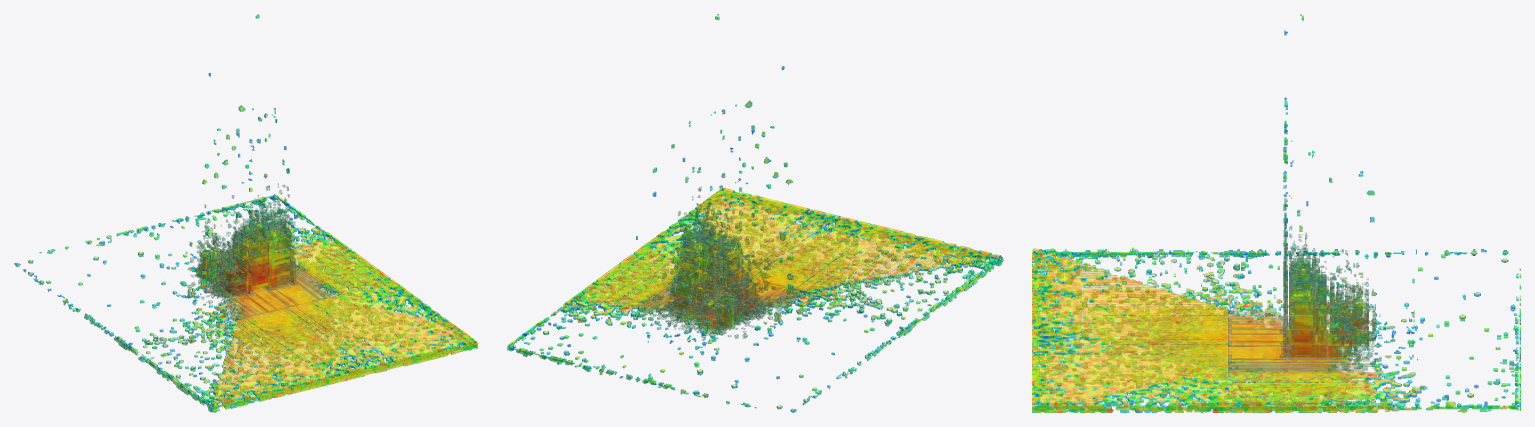
Rendered from tower_block_out.glb.
3 views of the same model, side by side, from view 1: azimuth 30°, elevation 25°; view 2: azimuth 150°, elevation 25°; view 3: azimuth 270°, elevation 25° (orthographic). The views are drawn at different scales.
Parts seen in each view (by area): view 1: chunk:7, chunk:8, chunk:2, chunk:13, chunk:14, chunk:9, chunk:3, chunk:1, chunk:15, chunk:12, chunk:6, chunk:10 (+1 smaller); view 2: chunk:7, chunk:8, chunk:2, chunk:13, chunk:14, chunk:3, chunk:9, chunk:1, chunk:12, chunk:6, chunk:15, chunk:10 (+1 smaller); view 3: chunk:7, chunk:8, chunk:2, chunk:13, chunk:14, chunk:9, chunk:3, chunk:12, chunk:15, chunk:1, chunk:6, chunk:10 (+1 smaller).
Boxes of the visible parts, <box> form: chunk:7: <box>187,183,339,324</box>; chunk:8: <box>236,295,400,370</box>; chunk:2: <box>131,321,295,395</box>; chunk:13: <box>290,238,395,297</box>; chunk:14: <box>342,281,456,344</box>; chunk:9: <box>297,339,422,387</box>; chunk:3: <box>191,365,317,412</box>; chunk:1: <box>69,228,233,350</box>; chunk:15: <box>402,326,478,361</box>; chunk:12: <box>221,194,334,248</box>; chunk:6: <box>116,153,242,277</box>; chunk:10: <box>213,105,289,191</box>; chunk:7: <box>636,186,803,338</box>; chunk:8: <box>717,217,869,297</box>; chunk:2: <box>806,244,981,323</box>; chunk:13: <box>571,250,686,317</box>; chunk:14: <box>636,203,757,263</box>; chunk:3: <box>870,229,1003,277</box>; chunk:9: <box>759,201,890,246</box>; chunk:1: <box>753,231,916,372</box>; chunk:12: <box>507,298,629,364</box>; chunk:6: <box>565,236,719,390</box>; chunk:15: <box>701,187,779,220</box>; chunk:10: <box>652,101,778,196</box>; chunk:7: <box>1228,198,1374,379</box>; chunk:8: <box>1082,309,1228,378</box>; chunk:2: <box>1082,247,1228,317</box>; chunk:13: <box>1228,371,1374,412</box>; chunk:14: <box>1082,371,1228,412</box>; chunk:9: <box>1032,309,1082,376</box>; chunk:3: <box>1032,248,1082,317</box>; chunk:12: <box>1374,371,1520,412</box>; chunk:15: <box>1032,371,1082,412</box>; chunk:1: <box>1228,219,1374,316</box>; chunk:6: <box>1374,249,1520,376</box>; chunk:10: <box>1283,97,1374,231</box>.
Size of the model in its own units: 64.8 by 64.8 by 85.6.
Materials: 17 (16 with a texture image).
